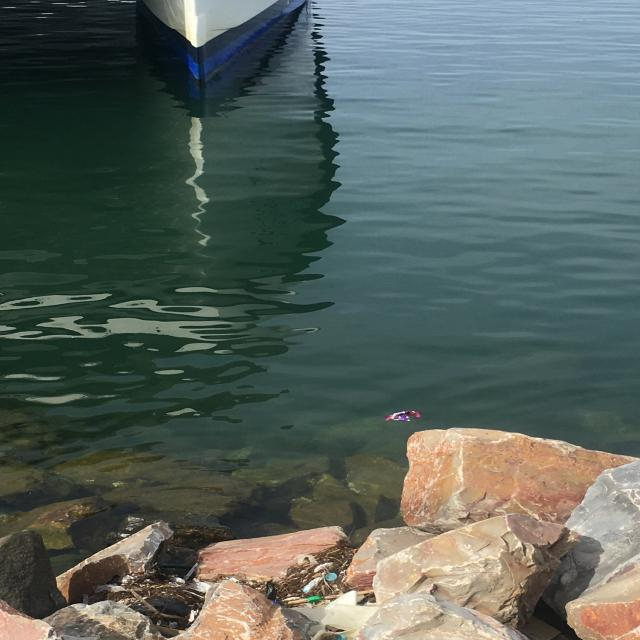Plastic packaging: (382, 409, 423, 422)
